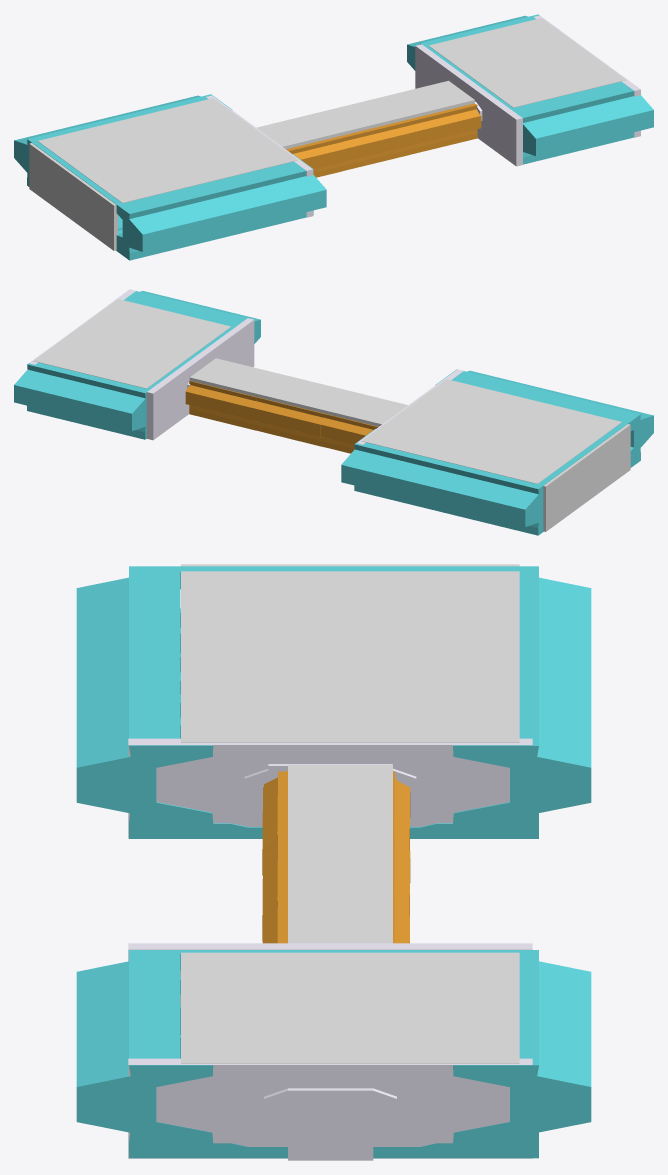
Rendered from Tutorial Location fbx.fbx.
3 views of the same model, one above another, from view 1: azimuth 30°, elevation 25°; view 2: azimuth 150°, elevation 25°; view 3: azimuth 270°, elevation 25° (orthographic). The views are drawn at different scales.
Parts seen in each view (by area): view 1: Cellar, Corridor, fourthdoor, seconddoor, thirddoor; view 2: Cellar, Corridor, fourthdoor, seconddoor; view 3: Cellar, Corridor, firstdoor, thirddoor, seconddoor, fourthdoor.
Part boxes in pixels (x1=…): Cellar: x1=38, y1=18, x2=626, y2=203; Corridor: x1=14, y1=14, x2=653, y2=260; fourthdoor: x1=29, y1=143, x2=117, y2=250; seconddoor: x1=415, y1=44, x2=522, y2=166; thirddoor: x1=206, y1=95, x2=313, y2=217; Cellar: x1=33, y1=299, x2=621, y2=483; Corridor: x1=14, y1=291, x2=653, y2=535; fourthdoor: x1=543, y1=424, x2=630, y2=531; seconddoor: x1=146, y1=318, x2=254, y2=440; Cellar: x1=181, y1=571, x2=519, y2=1063; Corridor: x1=76, y1=566, x2=591, y2=1158; firstdoor: x1=128, y1=1058, x2=532, y2=1160; thirddoor: x1=128, y1=738, x2=532, y2=838; seconddoor: x1=128, y1=943, x2=532, y2=1005; fourthdoor: x1=181, y1=564, x2=519, y2=566.
Bounding box in the file's own units: 23216 × 2020 × 10028.
